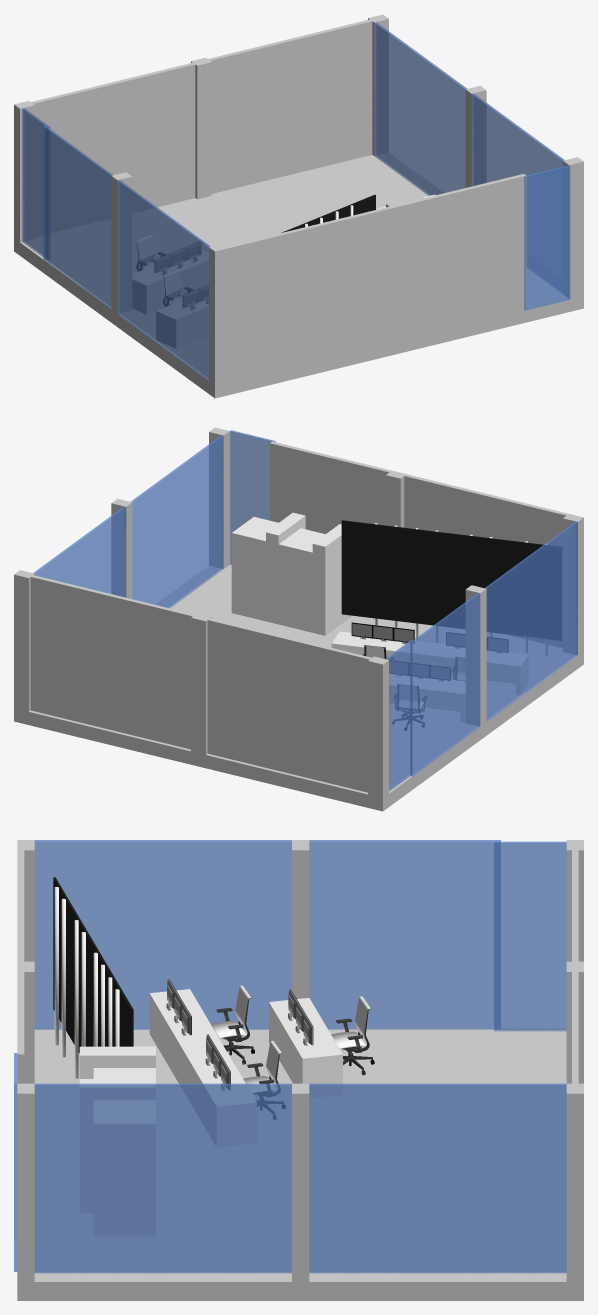
The model's file is bps-room.gltf.
3 renders of one model, top to bottom at view 1: azimuth 30°, elevation 25°; view 2: azimuth 150°, elevation 25°; view 3: azimuth 270°, elevation 25°, orthographic. The views are drawn at different scales.
Parts seen in each view (by area): view 1: G-floor, G-wall-2, G-wall-3, G-wall-4, G-wall-1, G-wall glass-1, G-wall glass-3, G-wall glass-5, G-wall glass-2, G-wall glass-4, G-wall glass-6, G-column-4 (+13 smaller); view 2: G-wall-4, G-wall-3, G-TV, G-floor, G-wall glass-1, G-wall glass-2, G-wall glass-5, G-wall-1, G-wall-2, G-server-1, G-server-2, G-wall glass-3 (+17 smaller); view 3: G-floor, G-wall glass-3, G-wall glass-2, G-wall glass-1, G-wall glass-5, G-wall glass-6, G-server-2, G-TV, G-table-1, G-table-3, G-column-1, G-column-8 (+19 smaller).
Part boxes in pixels (x1,y1,x2,y2): G-floor: [14, 153, 583, 398]; G-wall-2: [227, 206, 391, 381]; G-wall-3: [208, 19, 372, 193]; G-wall-4: [31, 62, 195, 236]; G-wall-1: [405, 174, 526, 338]; G-wall glass-1: [117, 180, 210, 380]; G-wall glass-3: [374, 22, 467, 195]; G-wall glass-5: [43, 125, 112, 308]; G-wall glass-2: [471, 93, 564, 293]; G-wall glass-4: [524, 165, 570, 310]; G-wall glass-6: [22, 108, 50, 259]; G-column-4: [111, 172, 132, 313]; G-wall-4: [207, 618, 371, 792]; G-wall-3: [30, 575, 194, 749]; G-TV: [341, 520, 561, 655]; G-floor: [14, 564, 583, 811]; G-wall glass-1: [485, 521, 577, 721]; G-wall glass-2: [130, 435, 223, 608]; G-wall glass-5: [410, 593, 480, 776]; G-wall-1: [270, 441, 391, 533]; G-wall-2: [404, 474, 568, 647]; G-server-1: [278, 524, 351, 635]; G-server-2: [231, 512, 305, 624]; G-wall glass-3: [33, 506, 126, 597]; G-floor: [17, 1028, 583, 1300]; G-wall glass-3: [309, 1083, 566, 1273]; G-wall glass-2: [34, 1083, 291, 1273]; G-wall glass-1: [34, 840, 291, 1029]; G-wall glass-5: [309, 840, 500, 1029]; G-wall glass-6: [494, 841, 566, 1031]; G-server-2: [79, 1079, 155, 1236]; G-TV: [53, 877, 133, 1078]; G-table-1: [183, 1046, 256, 1147]; G-table-3: [269, 998, 342, 1098]; G-column-1: [17, 1083, 34, 1281]; G-column-8: [292, 1083, 309, 1281].
Bounding box in the file's own units: 8.67 × 3.3 × 8.23.
